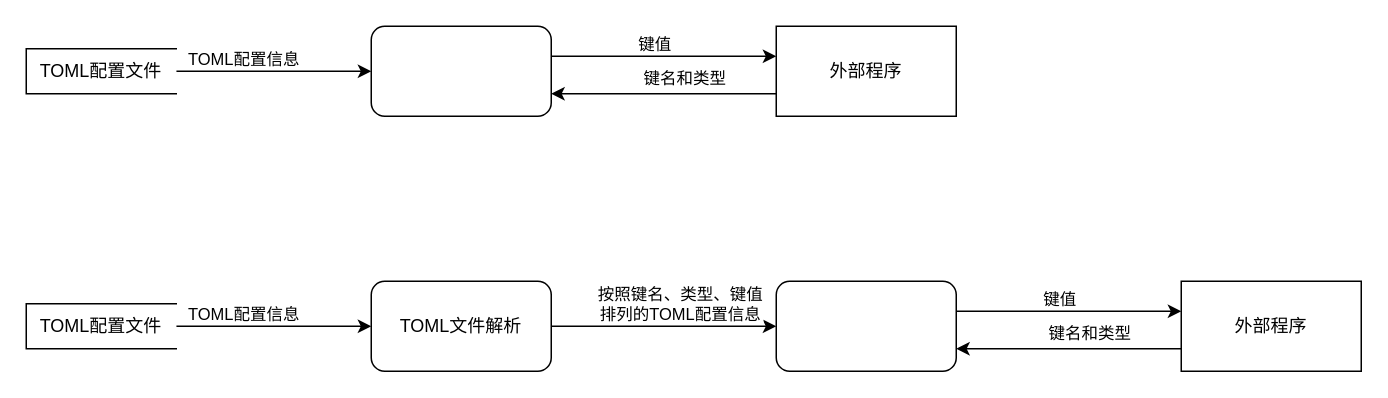
Image size: 1388x398. Some labels were removed from this diagram. Each missing label, with the centre of its shape:
TOML解析: the point at 460,70
键值读取: the point at 865,325
